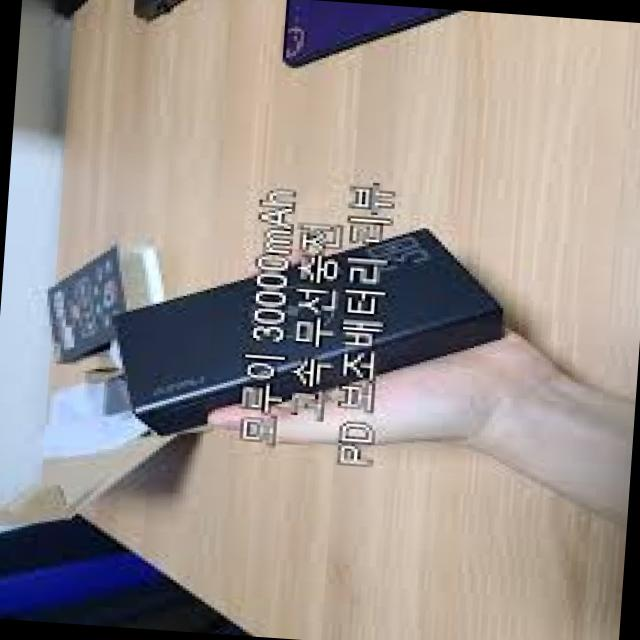portable-charger: (111, 204, 512, 454)
